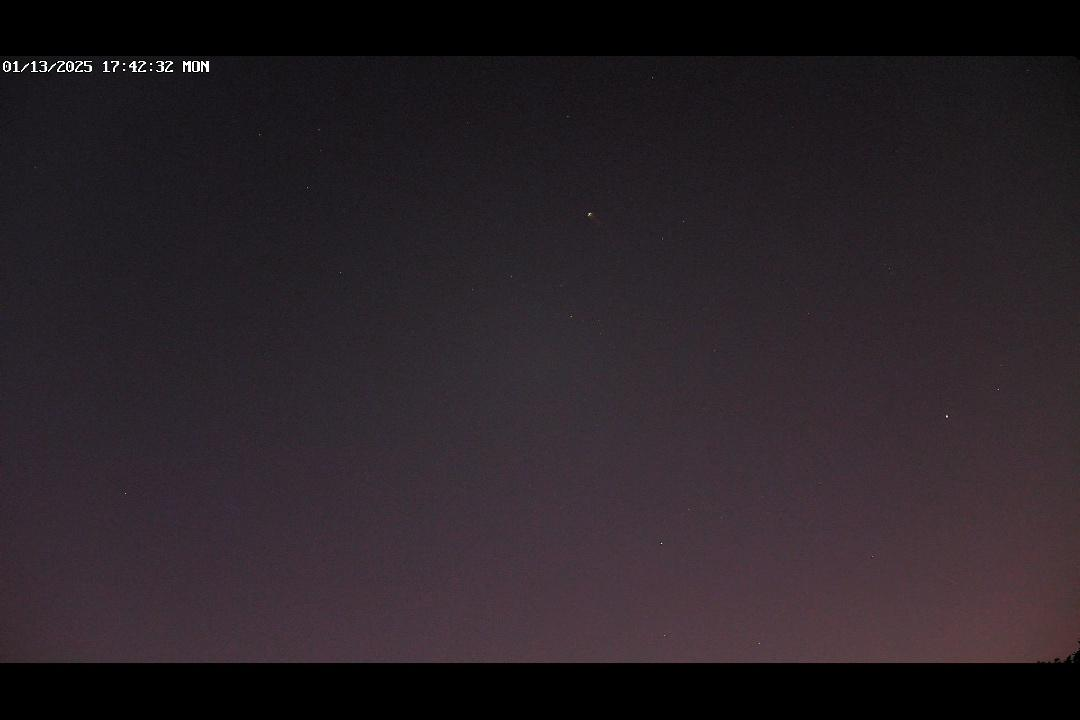Plane: (577, 205, 616, 237)
